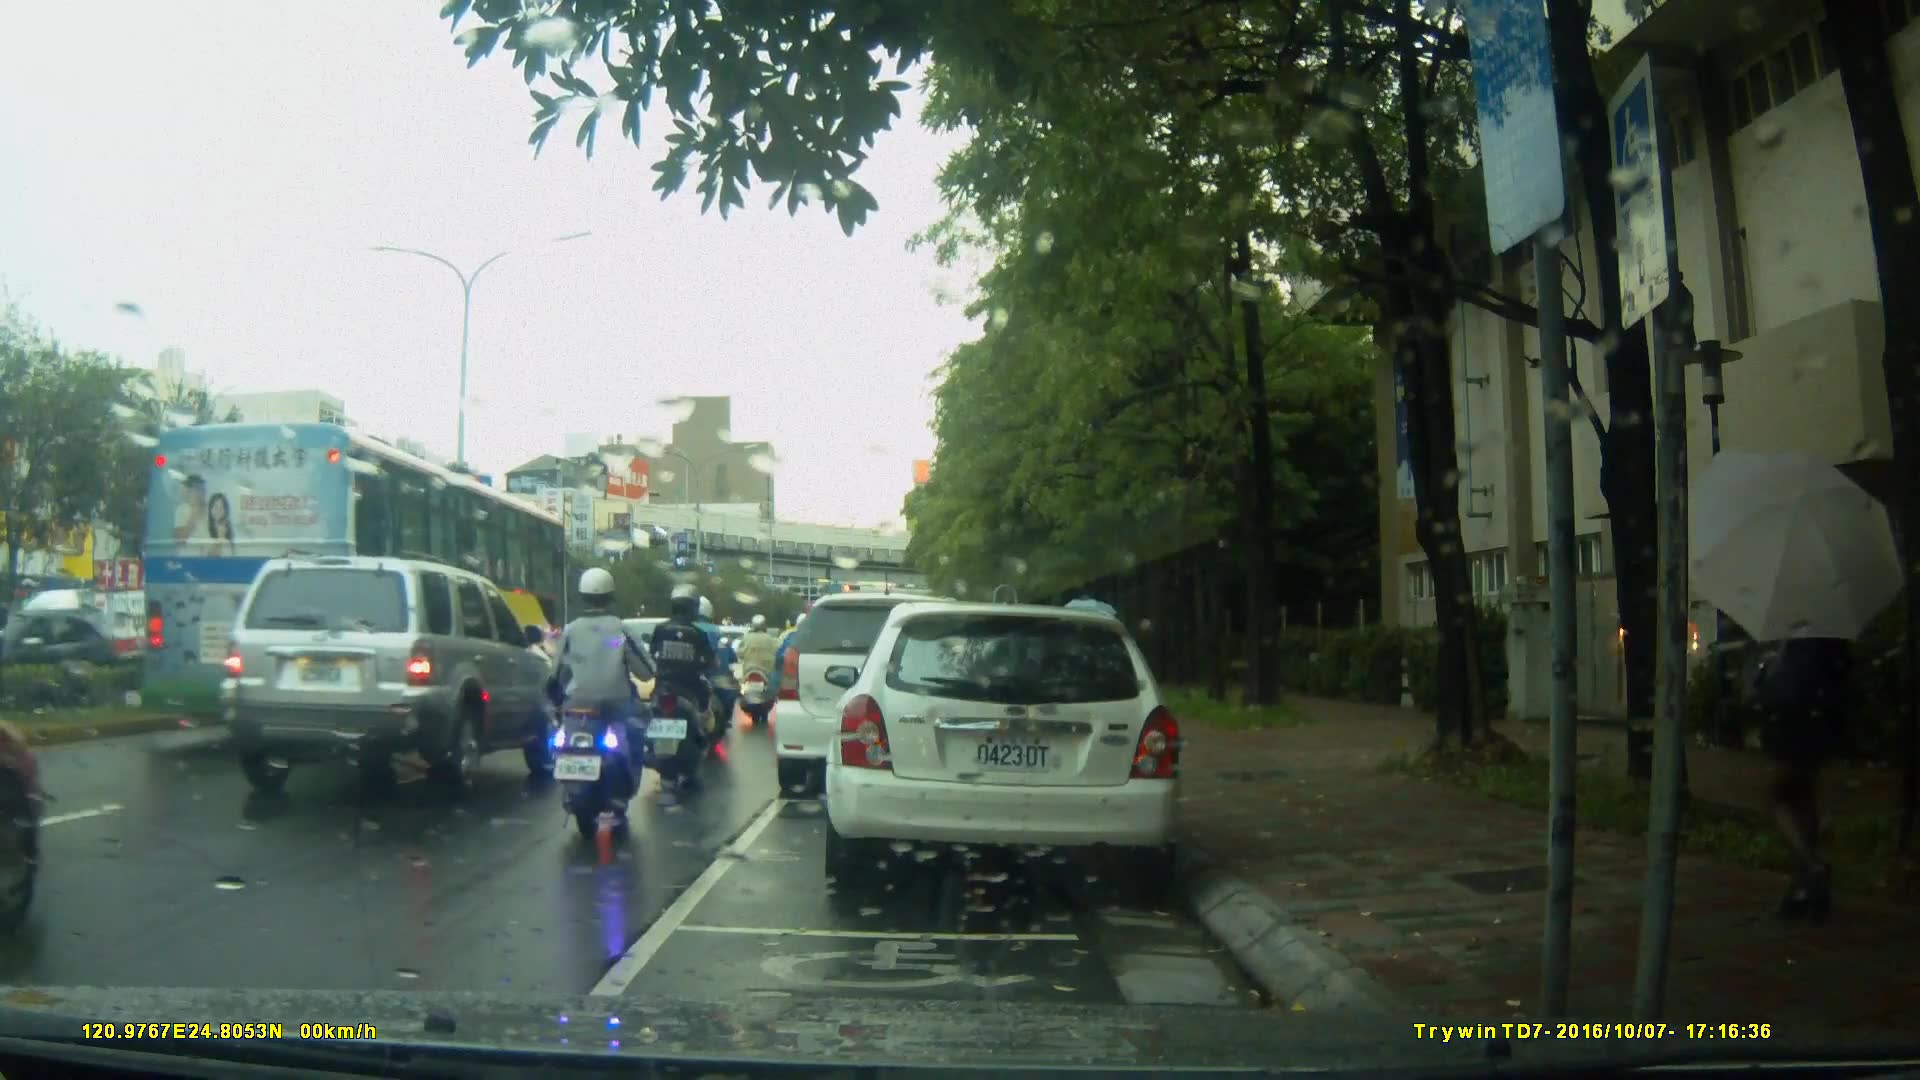pedestrian: (1730, 515, 1867, 930)
rider: (550, 565, 651, 831), (640, 580, 720, 798), (680, 595, 747, 746), (742, 610, 786, 731)
vehicle: (134, 418, 575, 741), (835, 594, 1194, 898), (216, 553, 566, 799), (776, 590, 1026, 784), (1, 611, 136, 715)
